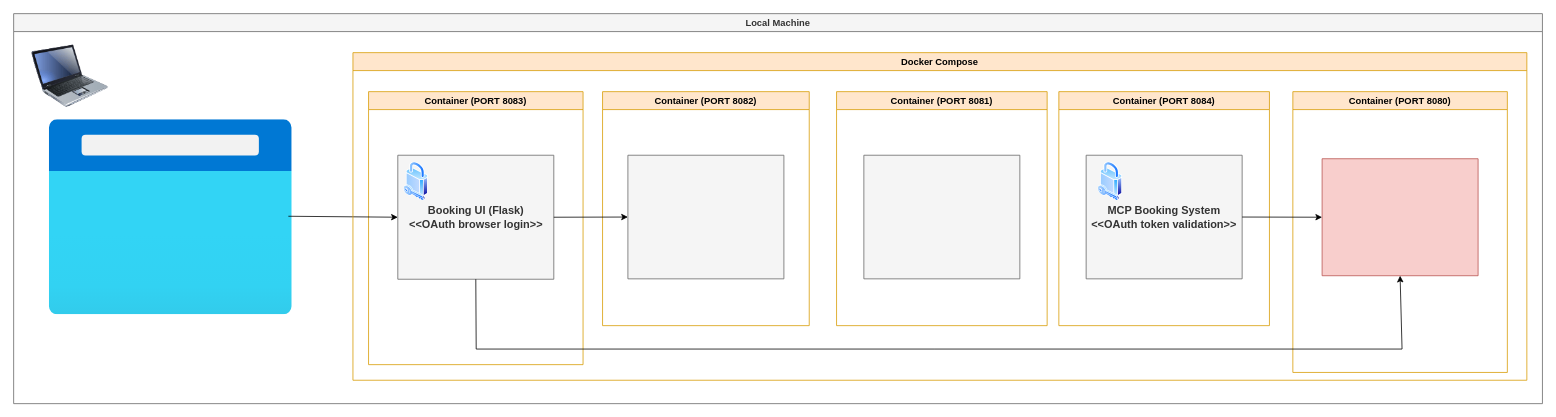
Image size: 1556x417. Some labels were removed from this diagram. Here are the shapes that lost their labels. From the top down, the centre of each, then its label:
At (x=170, y=216): "Browser".
At (x=705, y=216): "Booking System REST <<OAuth token validation>>".
At (x=941, y=216): "HR Database REST <<no auth>>".
At (x=1399, y=217): "Keycloak <<OAuth option only>>".
